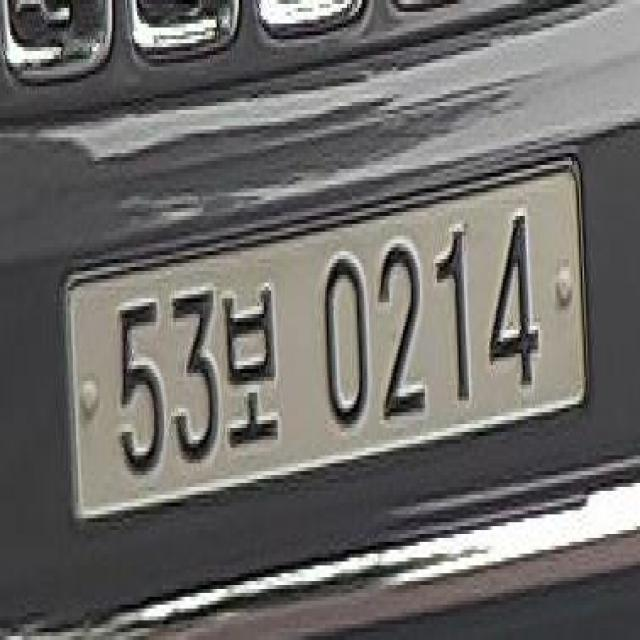0: (321, 247, 370, 439)
1: (432, 226, 478, 414)
2: (377, 234, 427, 433)
3: (169, 285, 218, 479)
4: (489, 205, 540, 402)
5: (114, 292, 164, 486)
bo: (221, 274, 284, 462)
license_plate: (50, 130, 603, 566)
